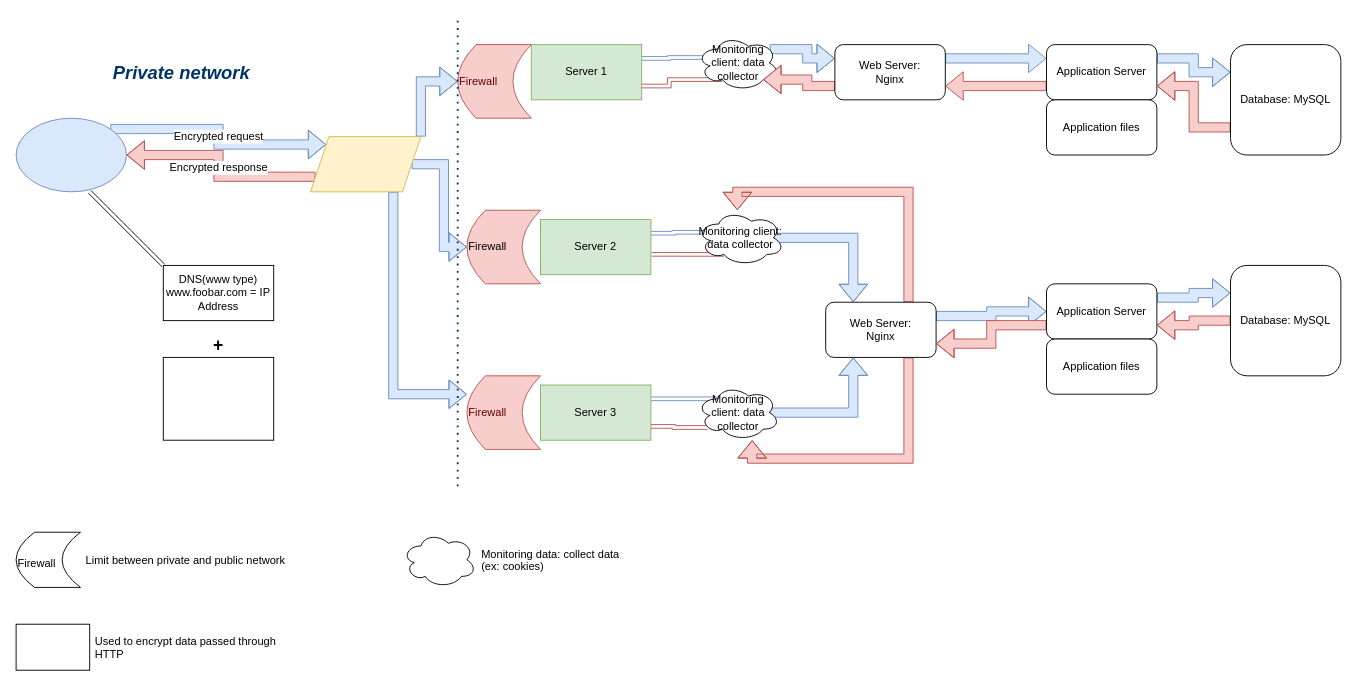
Some shapes in this 1357 by 686 pixel diagram are drawn without their labels. The centre of each missing label's shape, as x and y in pixels:
"Client" belongs at point 70,154.
"Load Balencer" belongs at point 365,164.
"SSL Certificate" belongs at point 52,646.
"SSL Certificate: will serve foobar.com over HTTPS" belongs at point 218,398.
